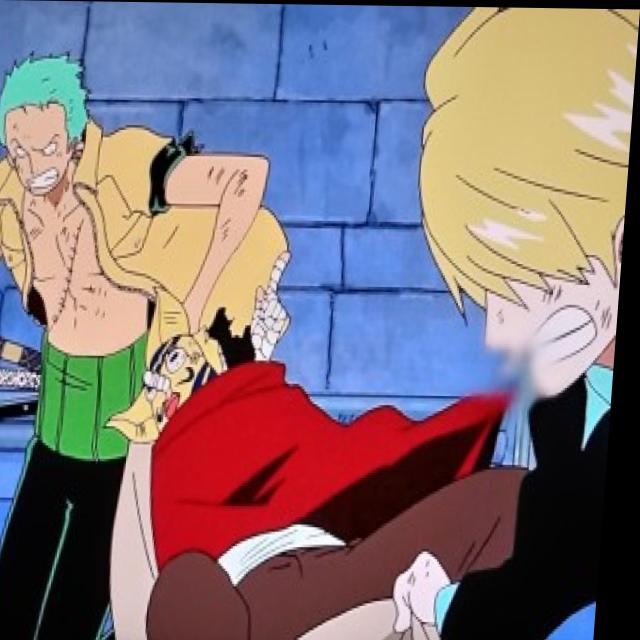Sangdi: (404, 5, 640, 402)
Usopp: (96, 249, 309, 466)
Zoro: (0, 43, 104, 201)
